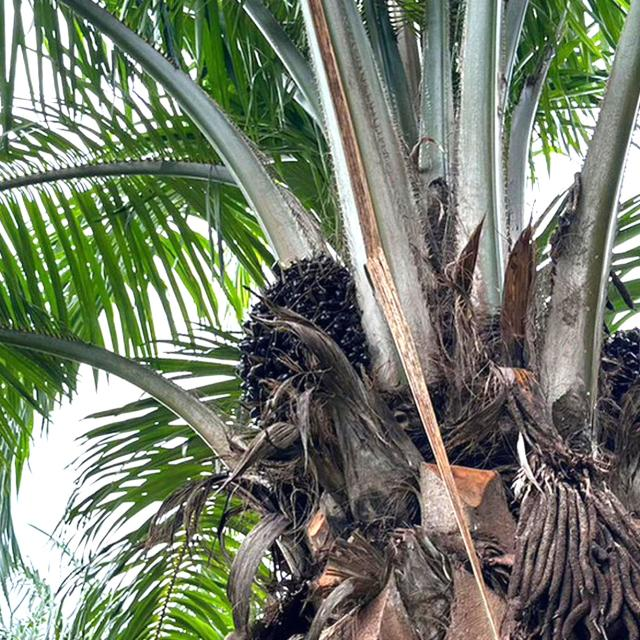unripe: (228, 241, 384, 449)
